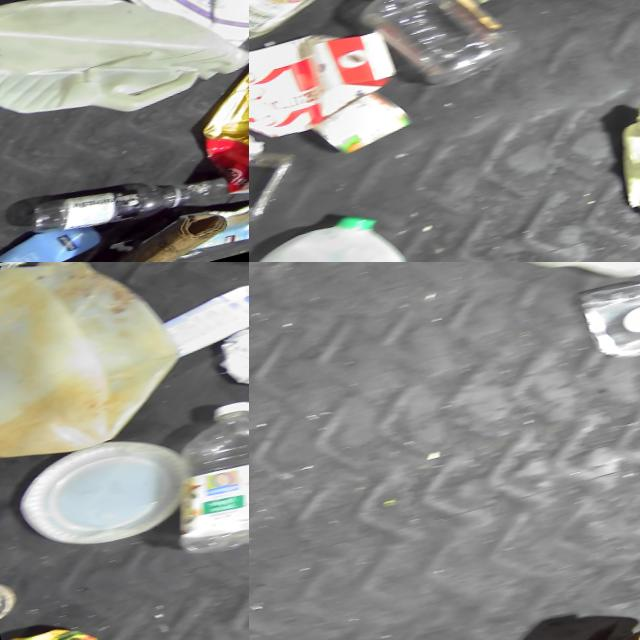can: (0, 613, 120, 640), (0, 572, 19, 620)
milk_jug: (0, 262, 199, 476), (0, 0, 249, 163), (249, 200, 425, 262)
plastic_bottle: (0, 161, 196, 252), (353, 0, 526, 102), (145, 396, 249, 556)
